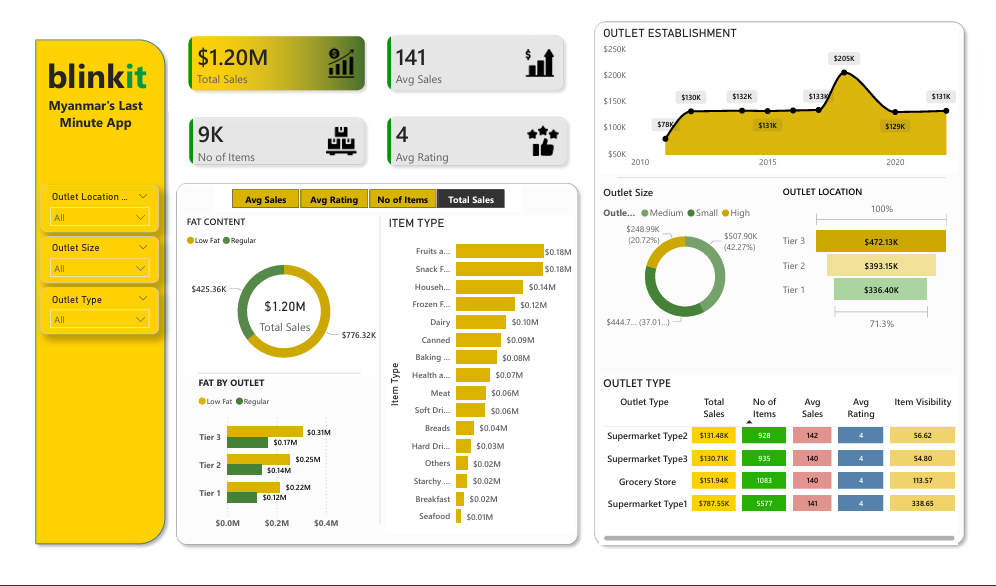

The dashboard page shown, as its layout file describes it:
{"tool":"powerbi","page":{"name":"Page 1","canvas":[1400,800],"ordinal":0},"visuals":[{"type":"shape","box":[20.2,25.7,205.8,749.6],"z":0},{"type":"textbox","box":[40.4,47.8,167.2,90],"z":1000},{"type":"textbox","box":[40,111.7,151.7,111.7],"z":2000},{"type":"group","id":"g1","title":"Group 2","box":[222,0,606,246],"z":3000},{"type":"cardVisual","fields":{"Data":["BlinkIT Grocery Data.Total Sales"]},"box":[222,0.6,313.1,136.9],"z":3000,"group":"g1"},{"type":"group","id":"g2","title":"Group 1","box":[223.1,118.3,605,128.3],"z":4000,"group":"g1"},{"type":"shape","box":[224,234,600,542],"z":4000},{"type":"cardVisual","fields":{"Data":["BlinkIT Grocery Data.Avg Sales"]},"box":[509.9,0,313.6,137.1],"z":5000,"group":"g1"},{"type":"cardVisual","fields":{"Data":["BlinkIT Grocery Data.Avg Rating"]},"box":[510,118.3,318.1,128.3],"z":5000,"group":"g2"},{"type":"donutChart","title":"FAT CONTENT","fields":{"Y":["BlinkIT Grocery Data.Total Sales"],"Category":["BlinkIT Grocery Data.Item Fat Content"]},"box":[242.5,290,292.5,232.5],"z":5000},{"type":"cardVisual","fields":{"Data":["BlinkIT Grocery Data.No of Items"]},"box":[223.1,119.2,312.3,126.6],"z":6000,"group":"g2"},{"type":"slicer","fields":{"Values":["Metrics.Metrics"]},"box":[287.5,245,445,40],"z":6000},{"type":"card","fields":{"Values":["BlinkIT Grocery Data.Total Sales"]},"box":[342.5,400,95,62.5],"z":7000},{"type":"clusteredBarChart","title":"FAT BY OUTLET","fields":{"Y":["BlinkIT Grocery Data.Total Sales"],"Category":["BlinkIT Grocery Data.Outlet Location Type"],"Series":["BlinkIT Grocery Data.Item Fat Content"]},"box":[260,522.5,220,230],"z":8000},{"type":"shape","box":[264.4,505.6,235.6,25.6],"z":9000},{"type":"shape","box":[522.2,290,12.2,446.7],"z":10000},{"type":"barChart","title":"ITEM TYPE","fields":{"Y":["BlinkIT Grocery Data.Total Sales"],"Category":["BlinkIT Grocery Data.Item Type"]},"box":[535.6,290,275.6,462.2],"z":11000},{"type":"shape","box":[830,0,554,776],"z":12000},{"type":"lineChart","title":"OUTLET ESTABLISHMENT","fields":{"Category":["BlinkIT Grocery Data.Outlet Establishment Year"],"Y":["BlinkIT Grocery Data.Total Sales"]},"box":[846.7,15,520,215],"z":13000},{"type":"shape","box":[872,224,476,22],"z":13001},{"type":"donutChart","title":"Outlet Size","fields":{"Y":["BlinkIT Grocery Data.Total Sales"],"Category":["BlinkIT Grocery Data.Outlet Size"]},"box":[846.7,245.6,247.8,216.7],"z":13002},{"type":"funnel","title":"OUTLET LOCATION","fields":{"Y":["BlinkIT Grocery Data.Total Sales"],"Category":["BlinkIT Grocery Data.Outlet Location Type"]},"box":[1106.7,245.6,252.2,216.7],"z":13003},{"type":"pivotTable","title":"OUTLET TYPE","fields":{"Rows":["BlinkIT Grocery Data.Outlet Type"],"Values":["BlinkIT Grocery Data.Total Sales","BlinkIT Grocery Data.No of Items","BlinkIT Grocery Data.Avg Sales","BlinkIT Grocery Data.Avg Rating","Sum(BlinkIT Grocery Data.Item Visibility)"]},"box":[846.7,522.2,520,244.4],"z":13004},{"type":"slicer","fields":{"Values":["BlinkIT Grocery Data.Outlet Location Type"]},"box":[36,246,172,68],"z":13005},{"type":"slicer","fields":{"Values":["BlinkIT Grocery Data.Outlet Size"]},"box":[36,320,172,68],"z":13006},{"type":"slicer","fields":{"Values":["BlinkIT Grocery Data.Outlet Type"]},"box":[36,394,172,68],"z":13007}]}

Visuals, with their boxes in screenshot pixels (x1, y1, x2, y2), scaled from the page's 1400x800 canvas onto the 996x586 screenshot:
shape: [14, 19, 161, 568]
textbox: [29, 35, 148, 101]
textbox: [28, 82, 136, 164]
"Group 2" group: [158, 0, 589, 180]
cardVisual - BlinkIT Grocery Data.Total Sales: [158, 0, 381, 101]
"Group 1" group: [159, 87, 589, 181]
shape: [159, 171, 586, 568]
cardVisual - BlinkIT Grocery Data.Avg Sales: [363, 0, 586, 100]
cardVisual - BlinkIT Grocery Data.Avg Rating: [363, 87, 589, 181]
"FAT CONTENT" donutChart: [173, 212, 381, 383]
cardVisual - BlinkIT Grocery Data.No of Items: [159, 87, 381, 180]
slicer - Metrics.Metrics: [205, 179, 521, 209]
card - BlinkIT Grocery Data.Total Sales: [244, 293, 311, 339]
"FAT BY OUTLET" clusteredBarChart: [185, 383, 341, 551]
shape: [188, 370, 356, 389]
shape: [372, 212, 380, 540]
"ITEM TYPE" barChart: [381, 212, 577, 551]
shape: [590, 0, 985, 568]
"OUTLET ESTABLISHMENT" lineChart: [602, 11, 972, 168]
shape: [620, 164, 959, 180]
"Outlet Size" donutChart: [602, 180, 779, 339]
"OUTLET LOCATION" funnel: [787, 180, 967, 339]
"OUTLET TYPE" pivotTable: [602, 383, 972, 562]
slicer - BlinkIT Grocery Data.Outlet Location Type: [26, 180, 148, 230]
slicer - BlinkIT Grocery Data.Outlet Size: [26, 234, 148, 284]
slicer - BlinkIT Grocery Data.Outlet Type: [26, 289, 148, 338]
